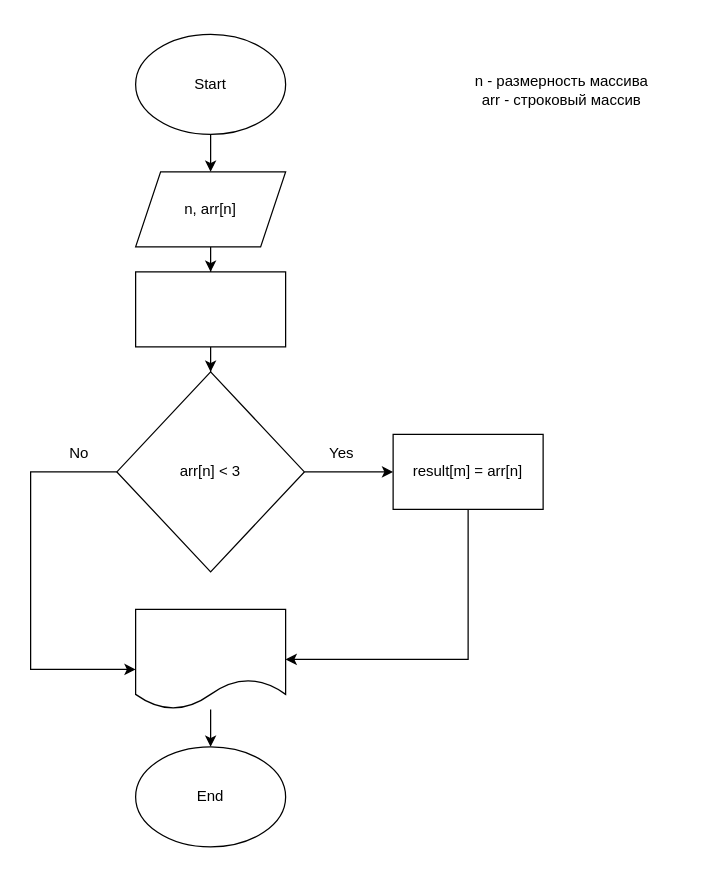
The diagram is 728 pixels wide and 869 high, and some of its shapes have lost their labels. Each missing label, with the centre of its shape:
"m result[m]" belongs at [210,309].
"Print (result)" belongs at [210,658].
